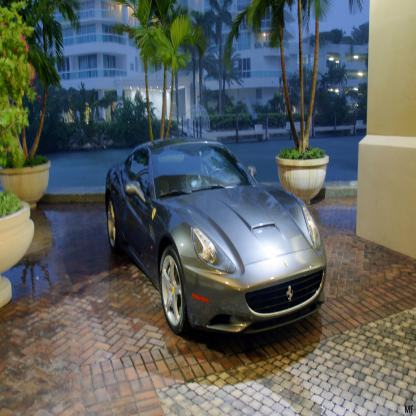Car: (105, 139, 327, 336)
